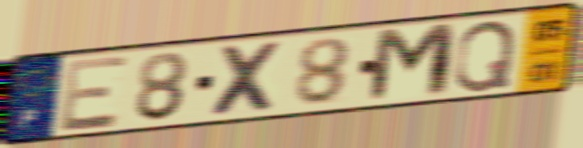8: (291, 36, 355, 107), (132, 49, 191, 124)
E: (57, 52, 133, 135)
M: (365, 20, 460, 106)
Q: (451, 17, 520, 95)
X: (207, 38, 288, 119)
